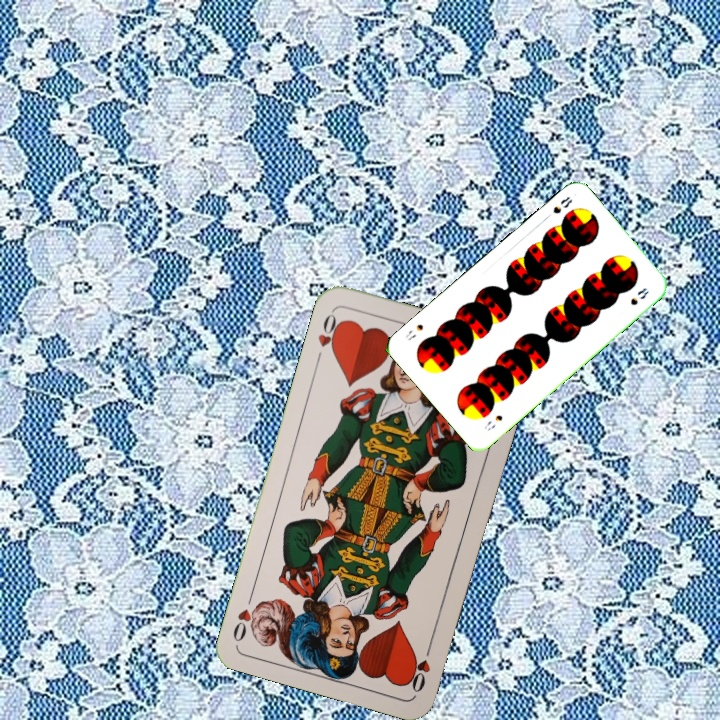HO: (311, 307, 345, 365), (405, 638, 435, 696)
S8: (549, 192, 575, 216), (480, 411, 505, 433)
